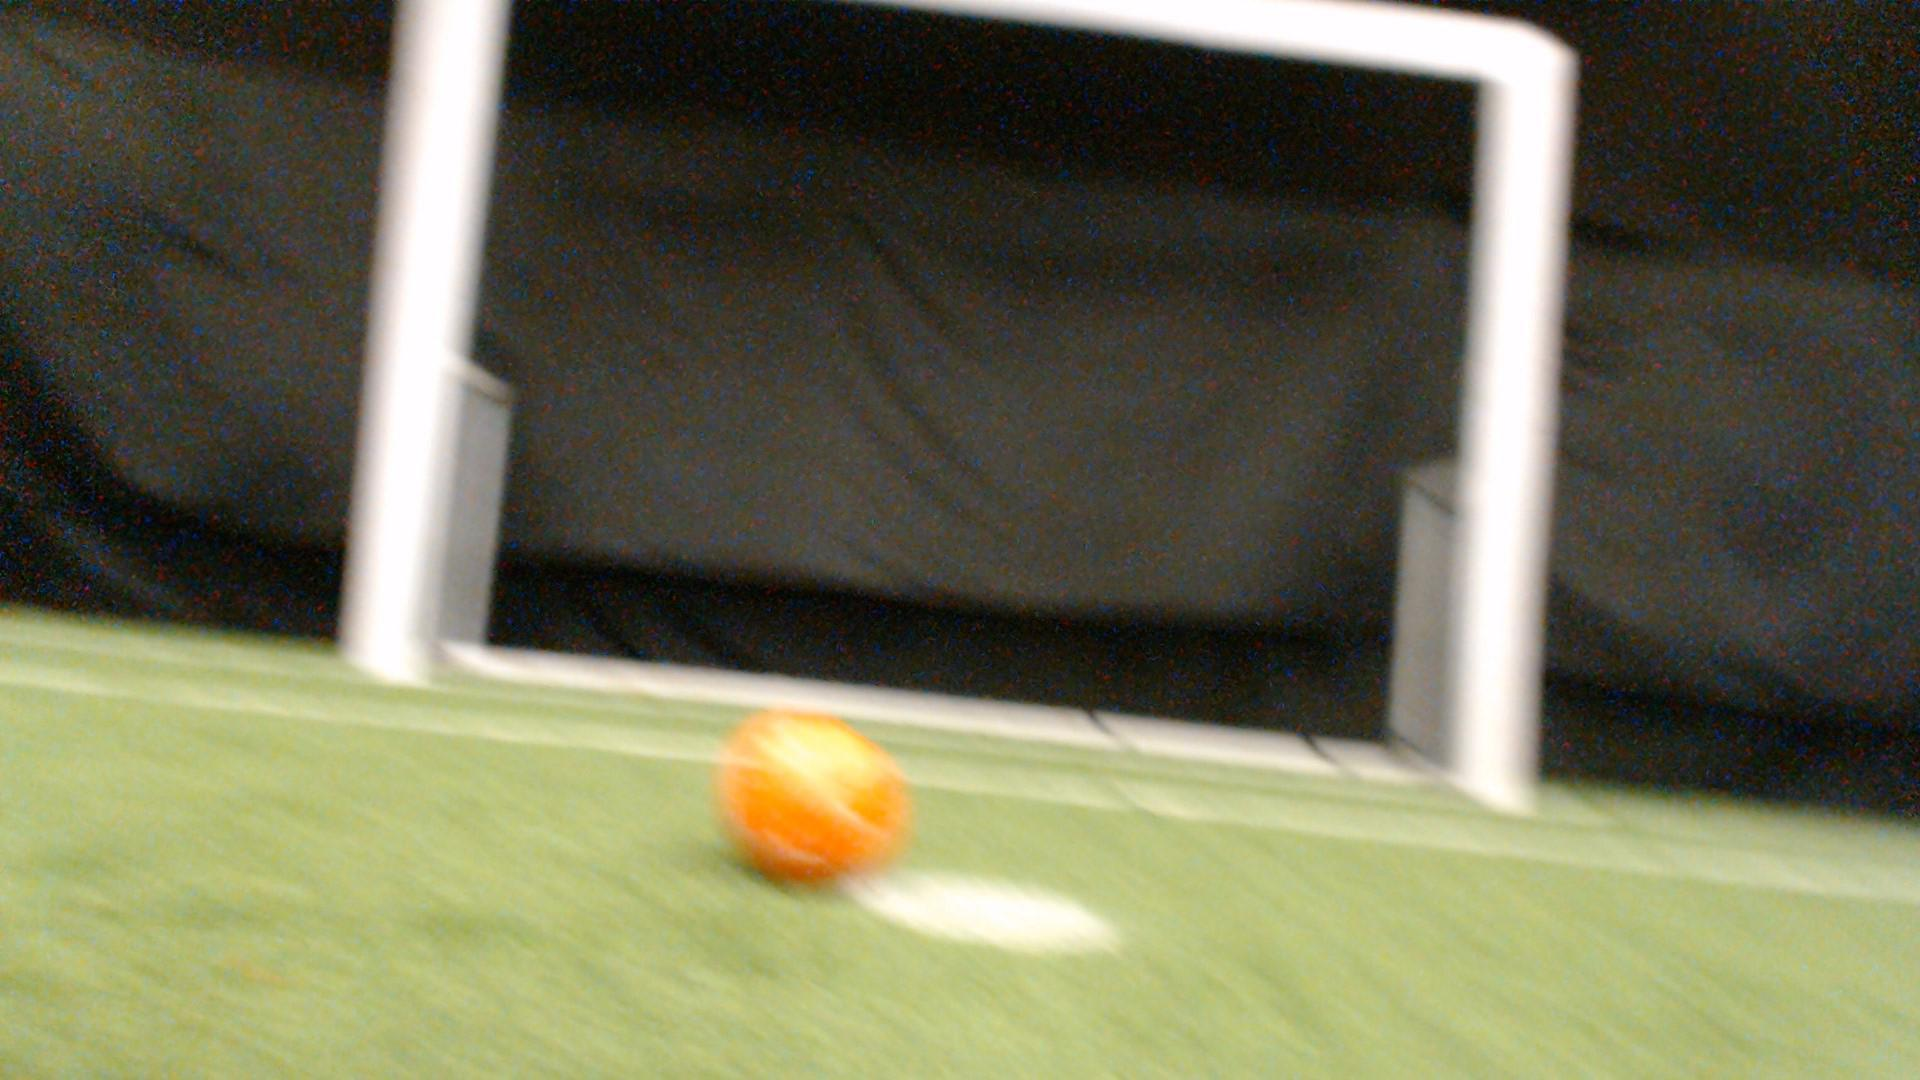bola: (698, 708, 919, 893)
